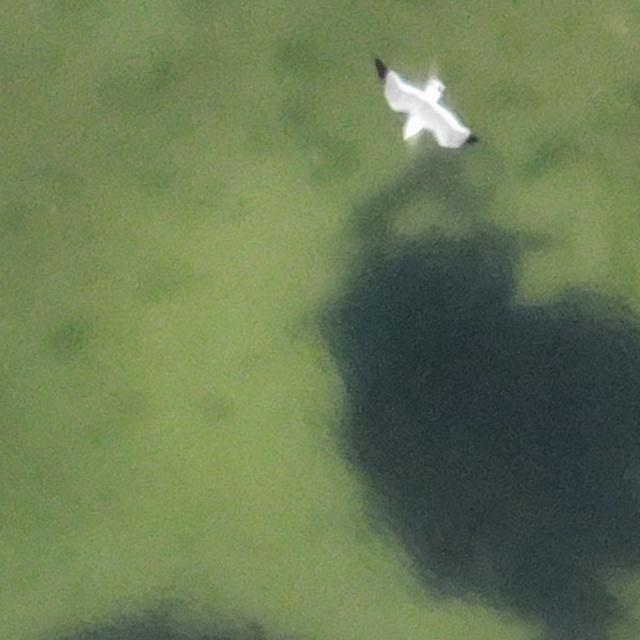F: (381, 68, 473, 150)
